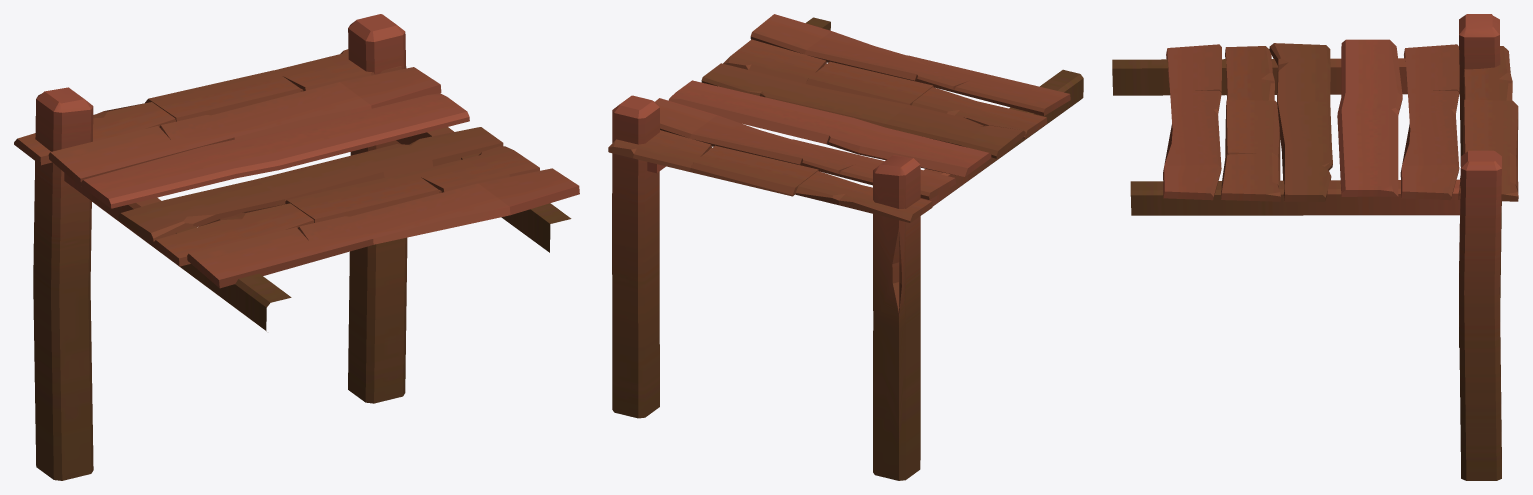
3 views of the same model, side by side, from view 1: azimuth 30°, elevation 25°; view 2: azimuth 150°, elevation 25°; view 3: azimuth 270°, elevation 25° (orthographic). The views are drawn at different scales.
Visible parts, largest first — view 1: PierTile; view 2: PierTile; view 3: PierTile.
Part boxes in pixels (x1,y1,x2,y2): PierTile: (14,14,579,480); PierTile: (608,14,1083,480); PierTile: (1112,14,1518,480).
Bounding box in the file's own units: 4.82 × 4.69 × 5.36.
Materials: 1 (1 with a texture image).
